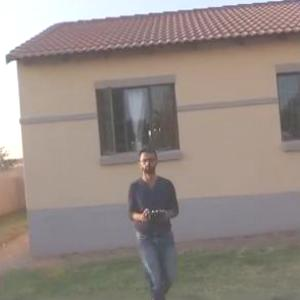follow: (124, 141, 188, 299)
